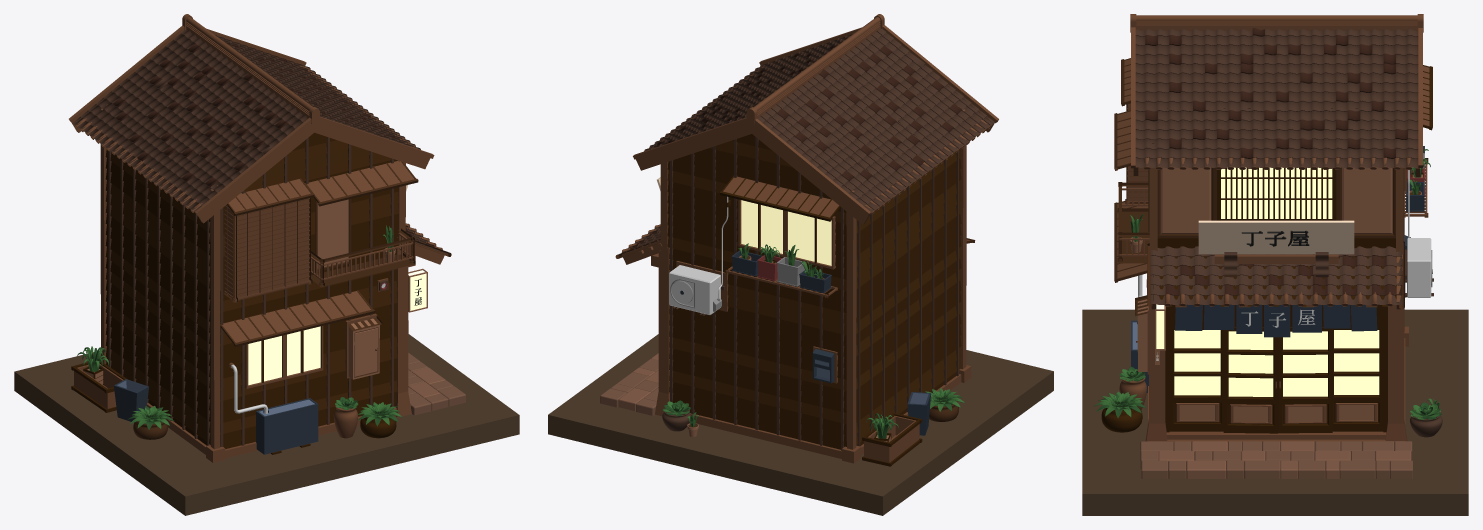
File: japanese_low_poly_building_1.glb
3 renders of one model, left to right at view 1: azimuth 30°, elevation 25°; view 2: azimuth 150°, elevation 25°; view 3: azimuth 270°, elevation 25°, orthographic. The views are drawn at different scales.
Visible parts, largest first — view 1: main_walls, 2_roof_support, 0_base, 2_side_bigbox, 1_pillars, 1_side_roof, 1_side_window, 1_side_tank, 2_side_balcony, 2_side_roof, 2_side_door, 2_top_decoration (+11 smaller); view 2: main_walls, 2_roof_support, 0_base, 1_pillars, 2_side_window, 2_side_roof.001, 2_side_windowsill, 2_side_fan, 2_top_decoration, 0_tile, back_box, 0_base.001 (+6 smaller); view 3: 2_roof_support, 0_base, 1_main_doors, 2_main_window, 1_roof_main, 0_tile, 1_sign, 1_flags.002, 2_top_decoration, 1_pillars, base_main, 2_side_balcony (+19 smaller).
Part boxes in pixels (left/top/right/bottom): main_walls: left=105, top=132, right=398, bottom=448; 2_roof_support: left=69, top=25, right=434, bottom=223; 0_base: left=14, top=334, right=519, bottom=515; 2_side_bigbox: left=224, top=178, right=314, bottom=302; 1_pillars: left=100, top=104, right=411, bottom=462; 1_side_roof: left=220, top=290, right=375, bottom=346; 1_side_window: left=244, top=326, right=323, bottom=388; 1_side_tank: left=229, top=362, right=318, bottom=454; 2_side_balcony: left=311, top=228, right=415, bottom=287; 2_side_roof: left=305, top=160, right=418, bottom=206; 2_side_door: left=315, top=199, right=351, bottom=271; 2_top_decoration: left=182, top=14, right=319, bottom=123; main_walls: left=667, top=134, right=961, bottom=450; 2_roof_support: left=633, top=24, right=998, bottom=224; 0_base: left=548, top=334, right=1053, bottom=515; 1_pillars: left=655, top=106, right=971, bottom=463; 2_side_window: left=738, top=199, right=835, bottom=269; 2_side_roof.001: left=720, top=175, right=840, bottom=221; 2_side_windowsill: left=724, top=250, right=838, bottom=298; 2_side_fan: left=669, top=196, right=728, bottom=315; 2_top_decoration: left=746, top=14, right=884, bottom=124; 0_tile: left=600, top=353, right=658, bottom=415; back_box: left=862, top=412, right=922, bottom=466; 0_base.001: left=690, top=374, right=961, bottom=458; 2_roof_support: left=1131, top=27, right=1422, bottom=176; 0_base: left=1082, top=309, right=1468, bottom=515; 1_main_doors: left=1169, top=327, right=1383, bottom=433; 2_main_window: left=1157, top=167, right=1395, bottom=238; 1_roof_main: left=1150, top=246, right=1402, bottom=304; 0_tile: left=1140, top=441, right=1412, bottom=478; 1_sign: left=1198, top=220, right=1354, bottom=277; 1_flags.002: left=1175, top=304, right=1377, bottom=337; 2_top_decoration: left=1130, top=14, right=1423, bottom=32; 1_pillars: left=1145, top=218, right=1408, bottom=441; base_main: left=1157, top=238, right=1395, bottom=432; 2_side_balcony: left=1117, top=182, right=1149, bottom=263.
Size of the model in its own units: 5.71 by 5.78 by 5.05.
